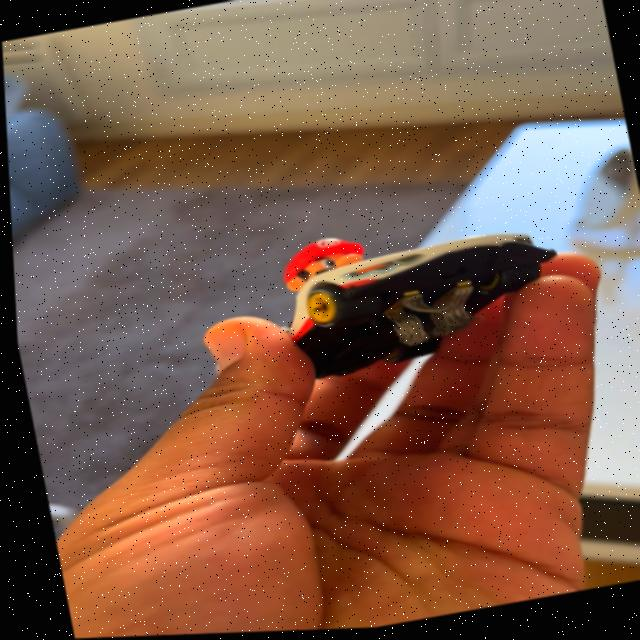mario: (221, 190, 576, 403)
